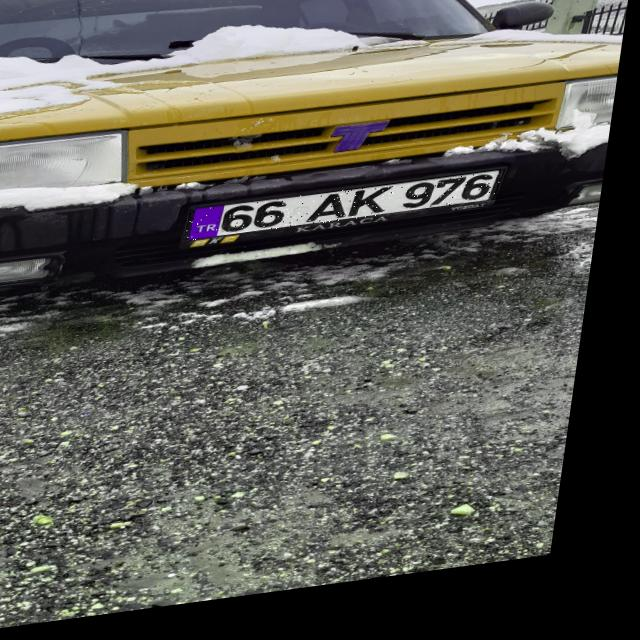license_plate: (193, 184, 508, 248)
